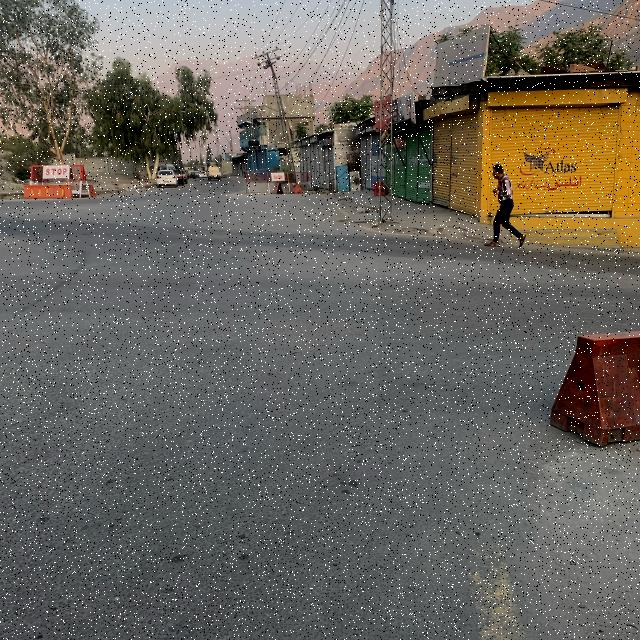right: (378, 237, 640, 412)
